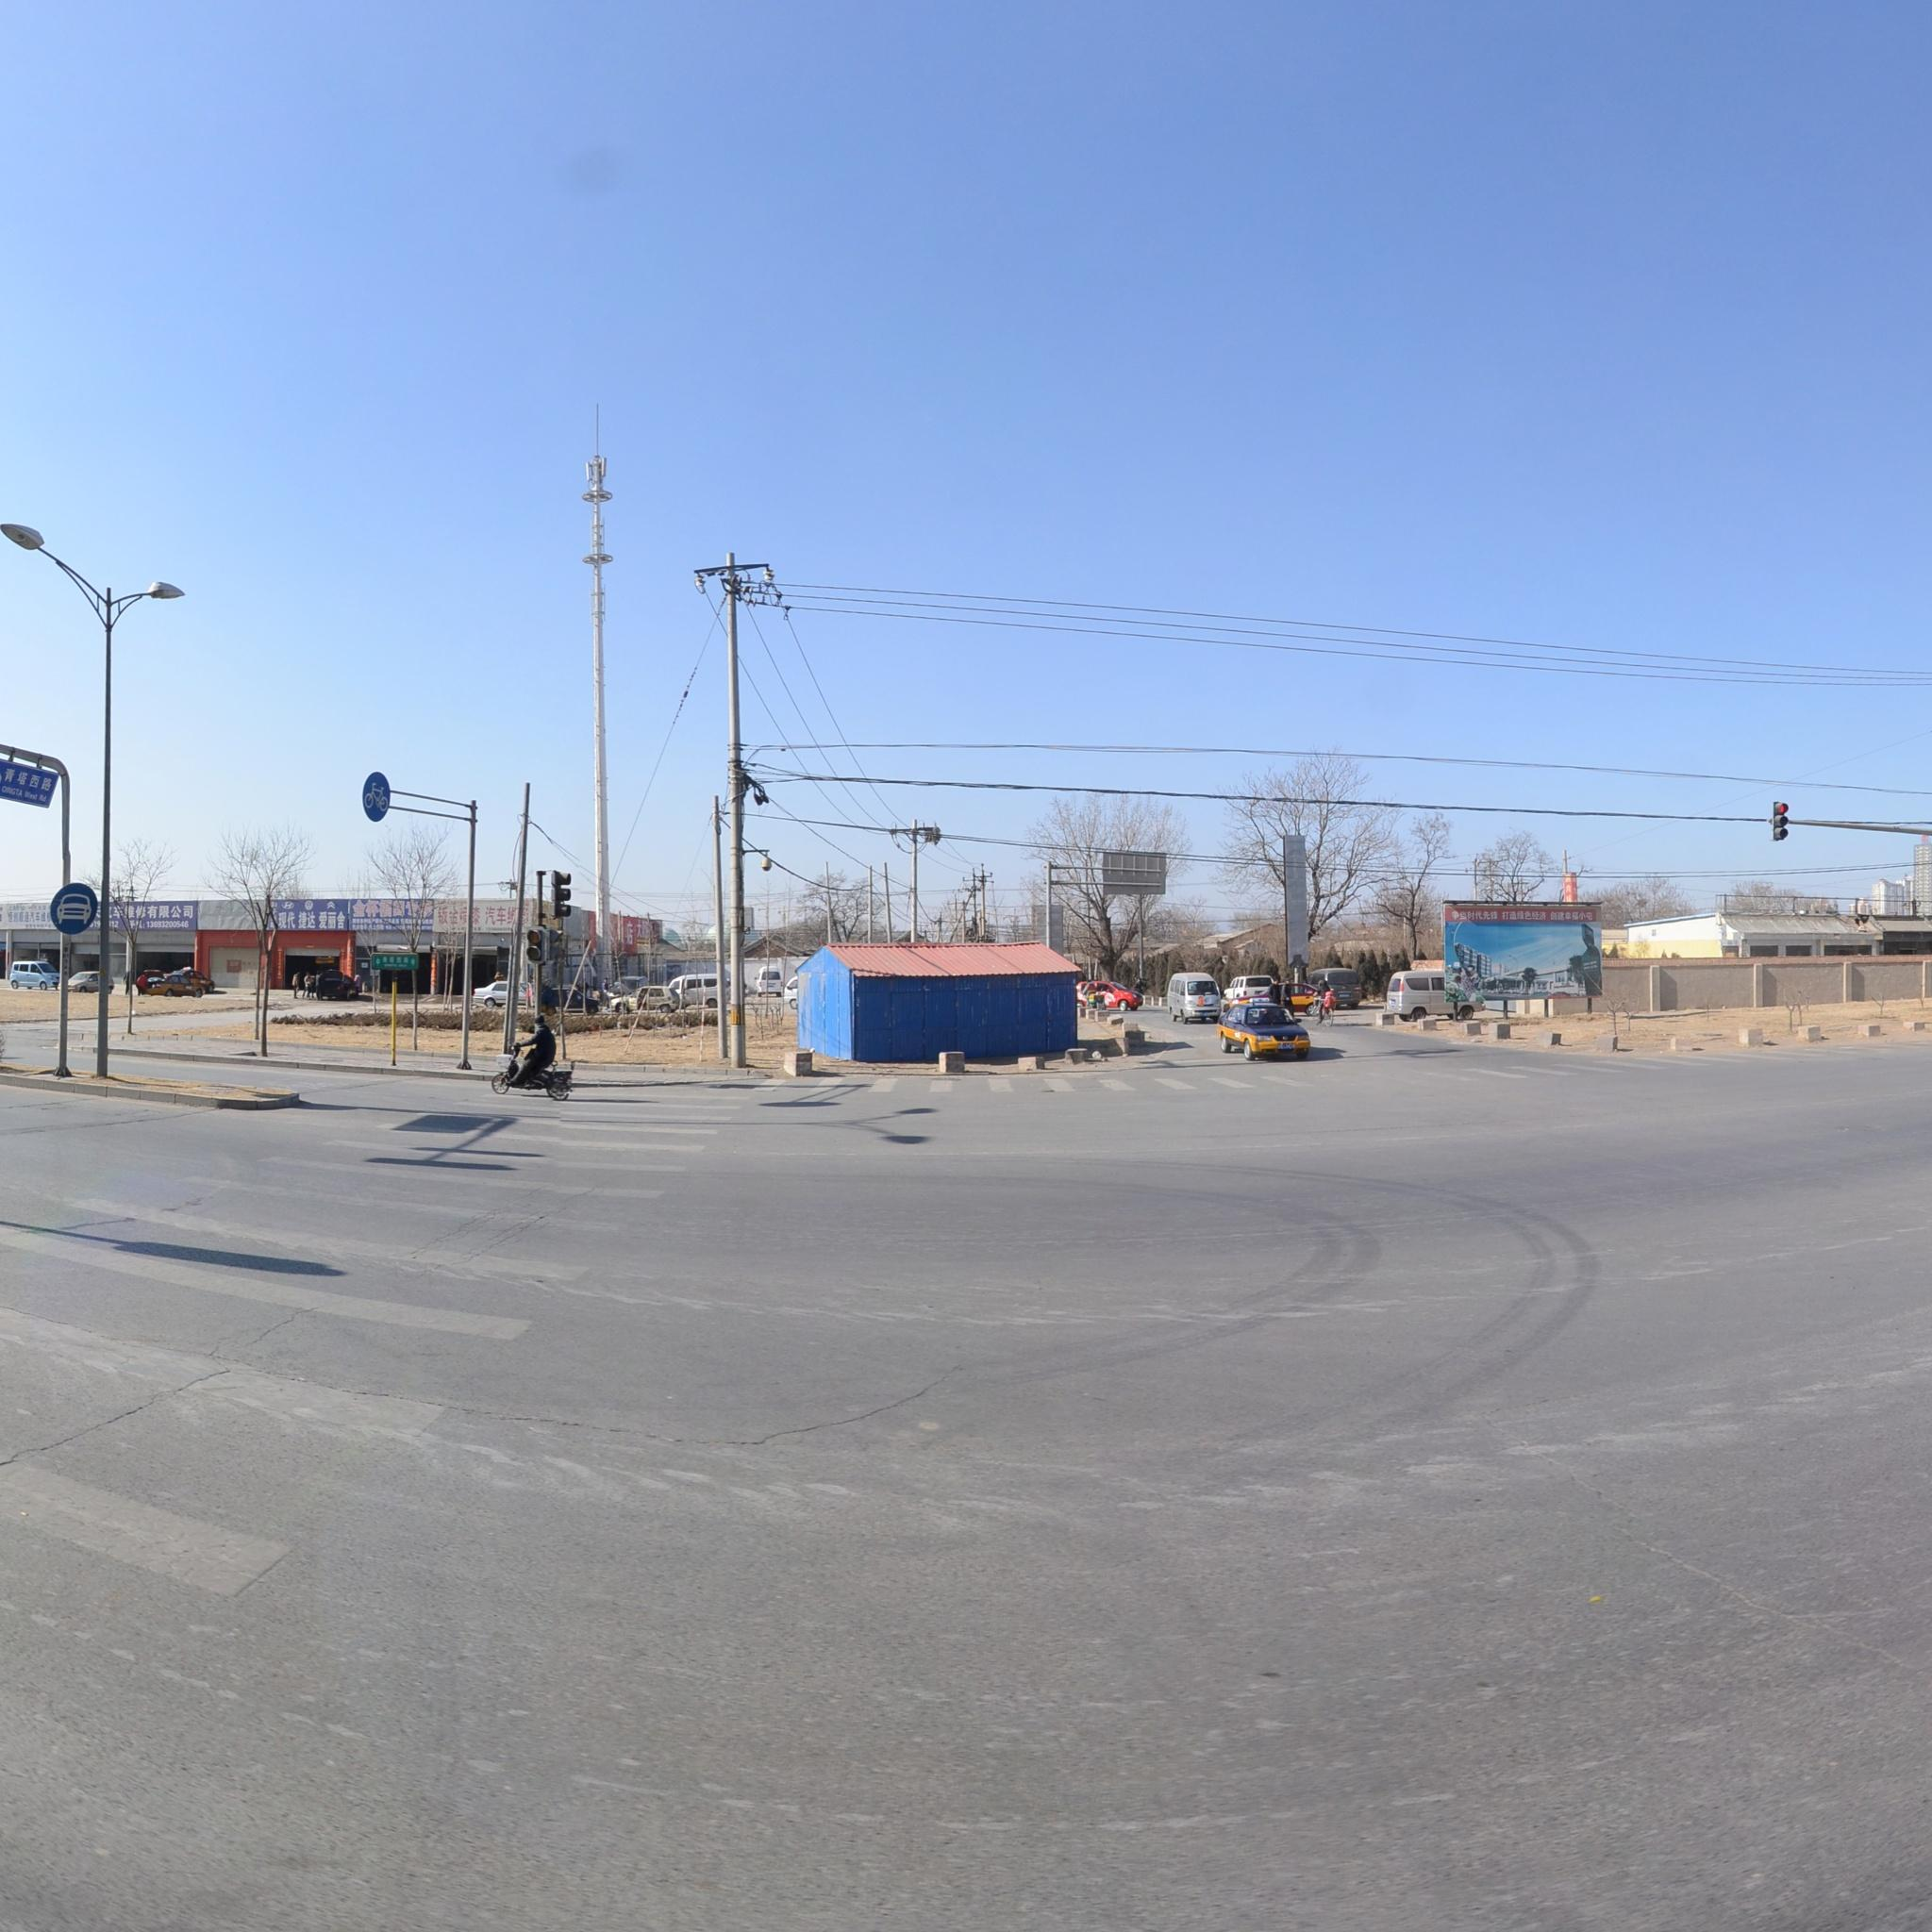i2: (361, 771, 389, 823)
i4: (50, 881, 96, 934)
